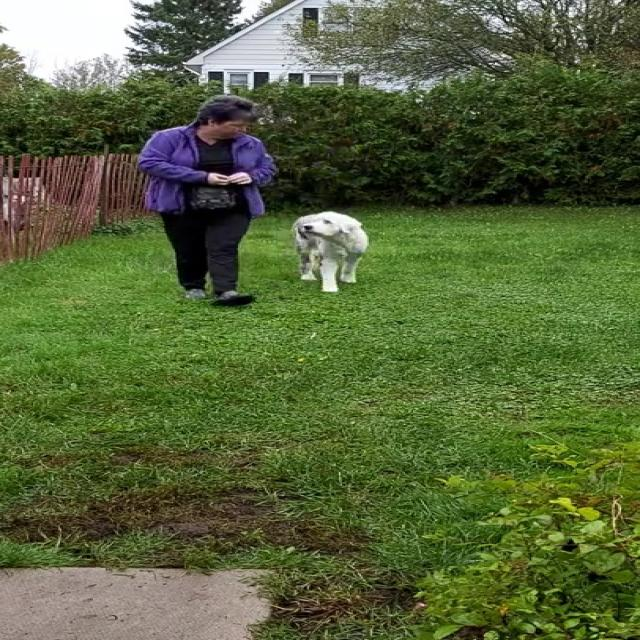Unleashed_Dog: (212, 212, 370, 294)
